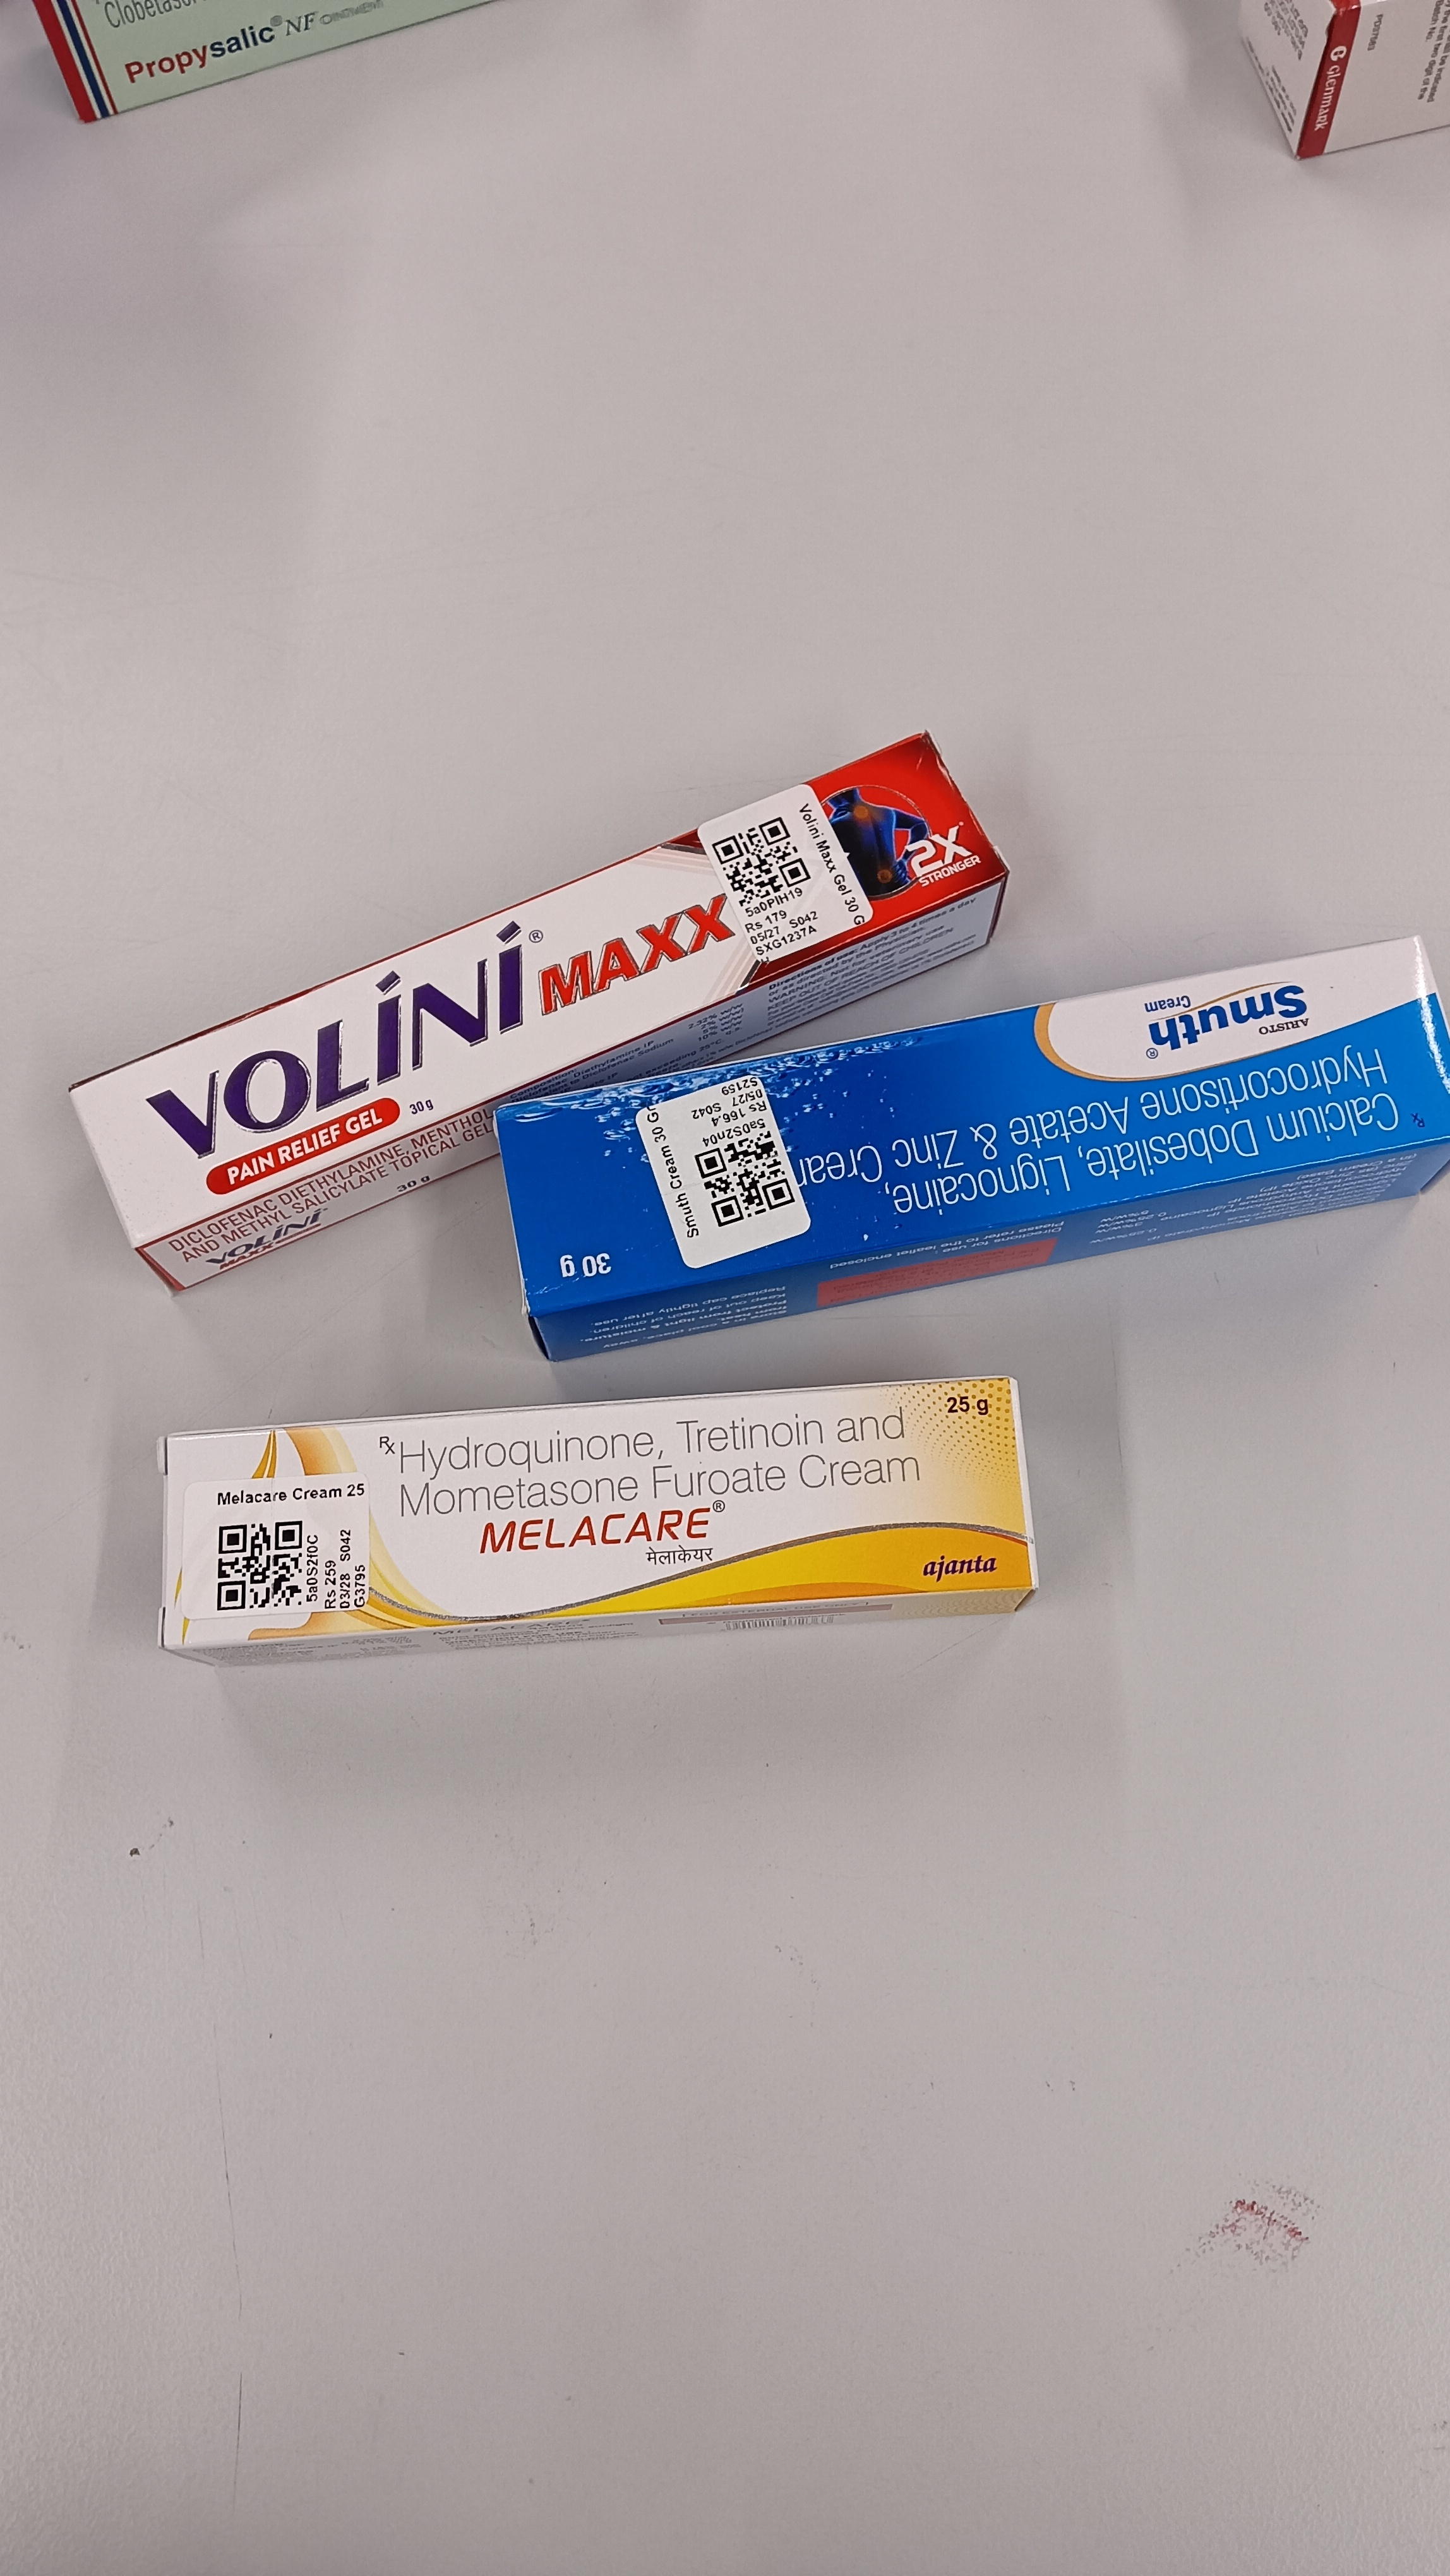QR: (694, 1081, 795, 1178), (710, 773, 811, 862)
